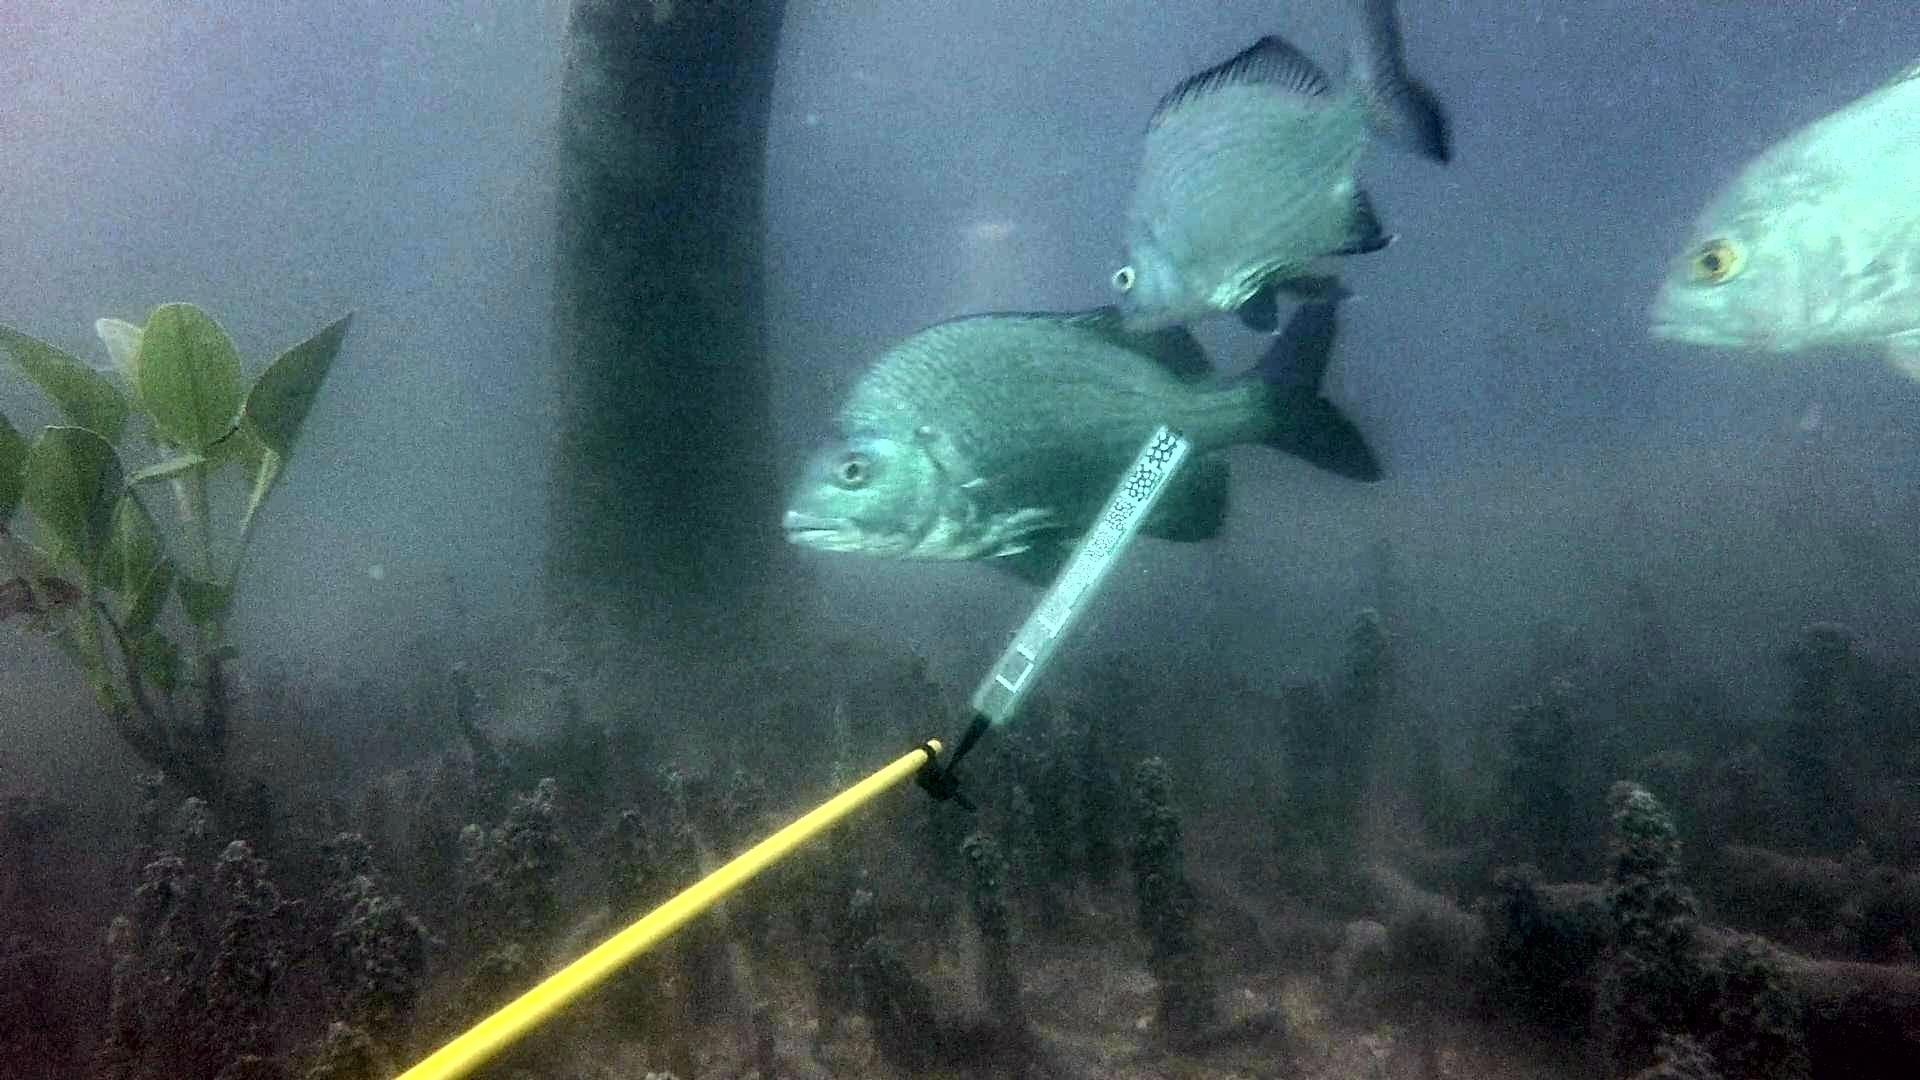acanthopagrus palmaris: (770, 288, 1399, 584), (1100, 3, 1491, 357)
caranx: (1643, 65, 1920, 392)
